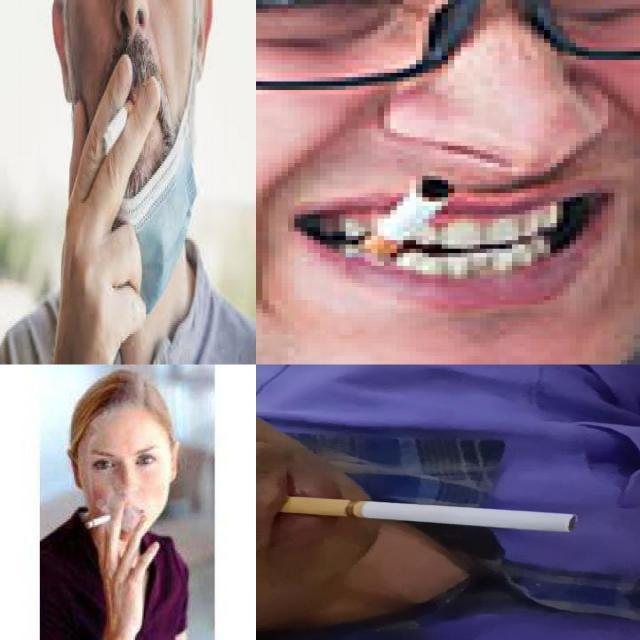smoke: (278, 494, 582, 536), (339, 167, 461, 249), (101, 99, 133, 157), (87, 511, 118, 528)
